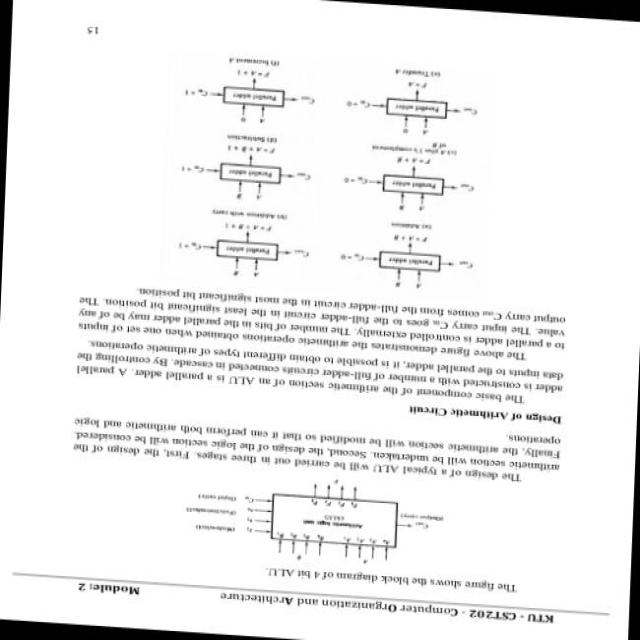Figure Detection - v3 Dataset Version2: (177, 463, 453, 576), (329, 209, 488, 300), (323, 132, 483, 218), (335, 55, 490, 142), (165, 203, 318, 291), (167, 124, 320, 209), (173, 47, 323, 131)
